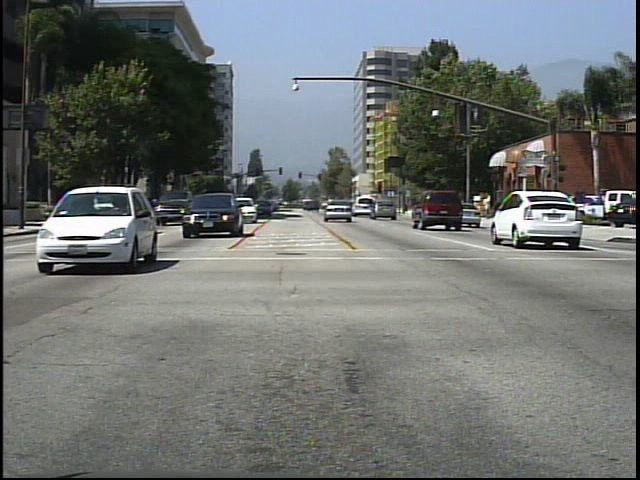person: (439, 192, 458, 226), (478, 191, 496, 222)
